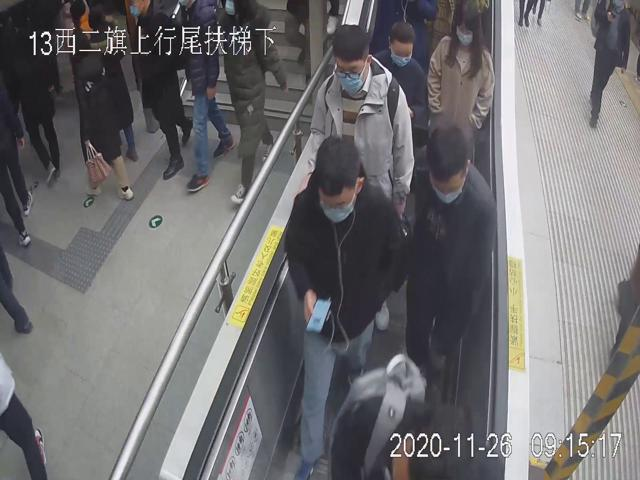person: (282, 133, 407, 477), (407, 120, 498, 397), (308, 20, 416, 219), (428, 4, 495, 169), (371, 17, 428, 143)
